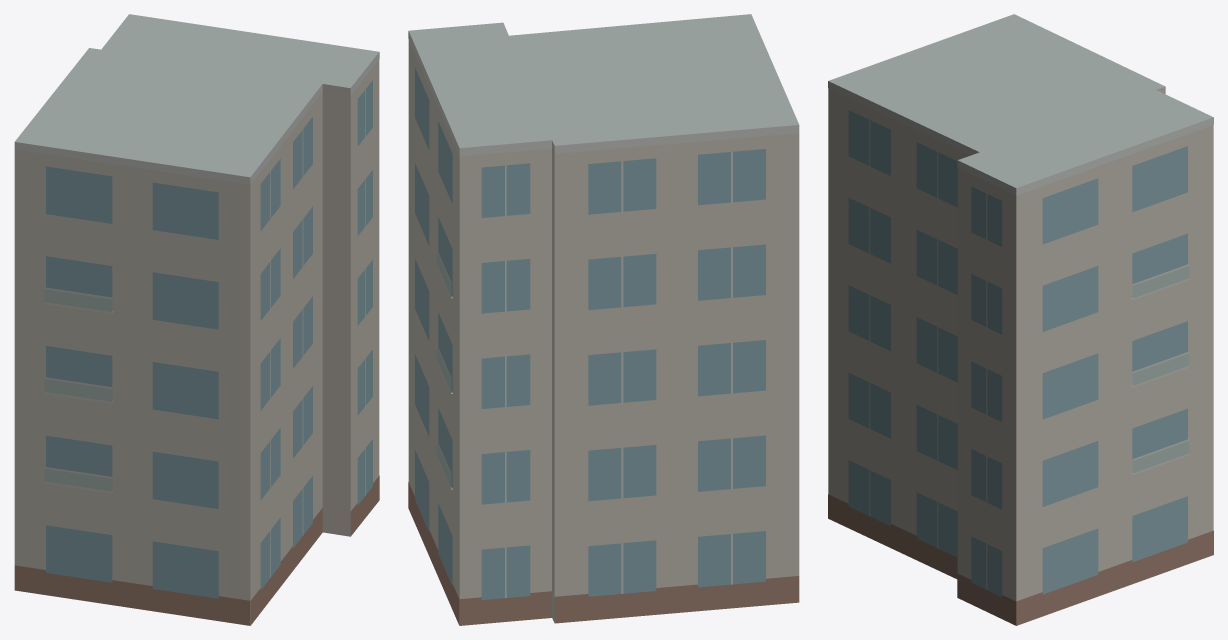
Rendered from survey-upis-32655307.glb.
3 renders of one model, left to right at view 1: azimuth 30°, elevation 25°; view 2: azimuth 150°, elevation 25°; view 3: azimuth 270°, elevation 25°, orthographic. The views are drawn at different scales.
Parts seen in each view (by area): view 1: survey-upis-32655307.tmp; view 2: survey-upis-32655307.tmp; view 3: survey-upis-32655307.tmp.
Part boxes in pixels (bbox=[...]): survey-upis-32655307.tmp: bbox=[14, 14, 379, 625]; survey-upis-32655307.tmp: bbox=[408, 14, 799, 625]; survey-upis-32655307.tmp: bbox=[828, 14, 1213, 625].
Bounding box in the file's own units: 12.22 × 14.3 × 11.43.
